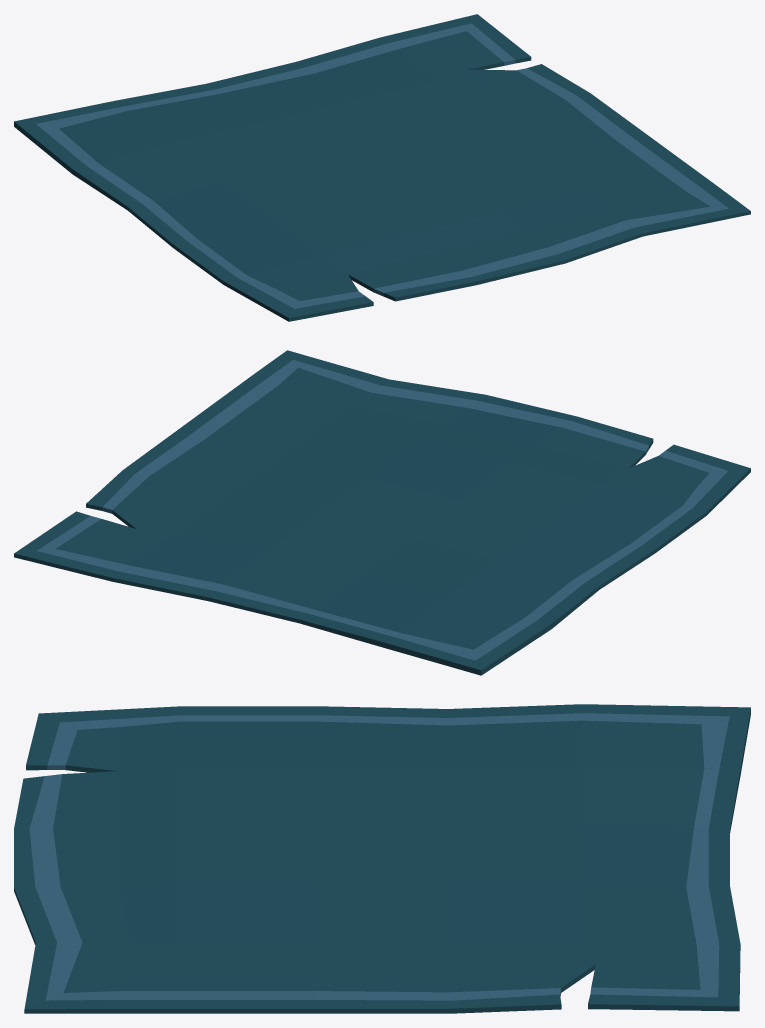
File: SM_Carpet_D.gltf
3 views of the same model, one above another, from view 1: azimuth 30°, elevation 25°; view 2: azimuth 150°, elevation 25°; view 3: azimuth 270°, elevation 25° (orthographic). The views are drawn at different scales.
Visible parts, largest first — view 1: SM_Carpet_D; view 2: SM_Carpet_D; view 3: SM_Carpet_D.
Boxes of the visible parts, box(x1,y1,x2,y2) form: SM_Carpet_D: box(14, 14, 750, 321); SM_Carpet_D: box(14, 350, 750, 675); SM_Carpet_D: box(14, 704, 750, 1013).
Bounding box in the file's own units: 2.38 × 0.0355 × 2.45.
1 material, 1 textured.
